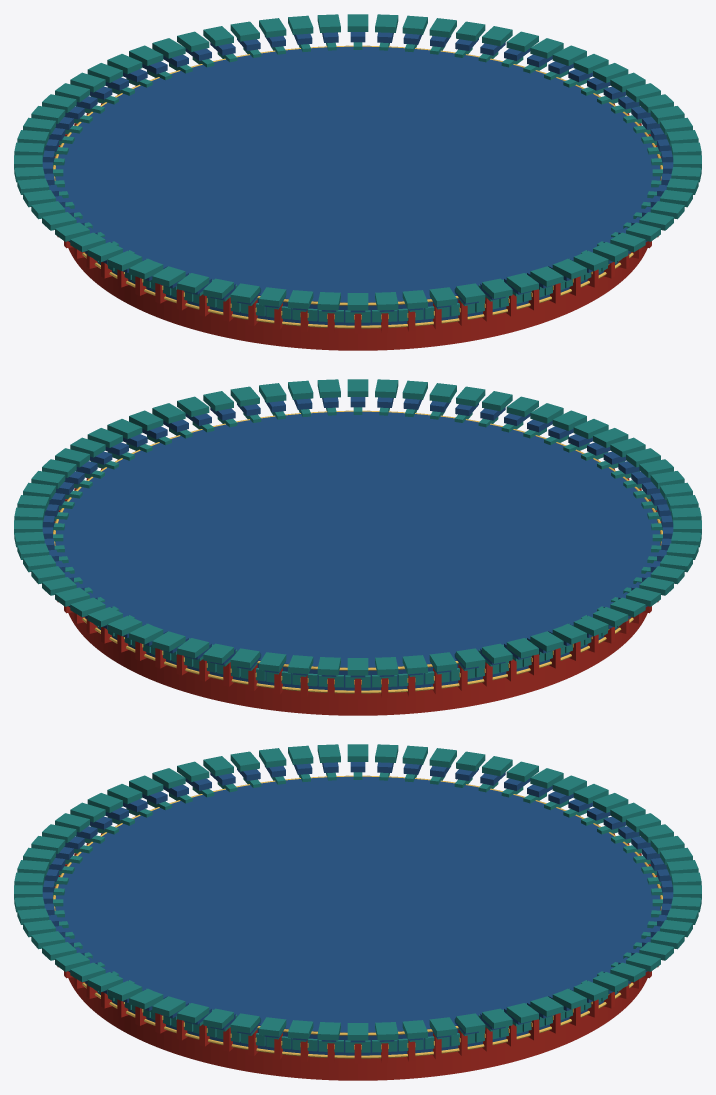
The model's file is SM_05_Bracket_3.fbx.
3 views of the same model, one above another, from view 1: azimuth 30°, elevation 25°; view 2: azimuth 150°, elevation 25°; view 3: azimuth 270°, elevation 25° (orthographic).
Visible parts, largest first — view 1: Bracket_3; view 2: Bracket_3; view 3: Bracket_3.
Part boxes in pixels (x1=…): Bracket_3: x1=14, y1=14, x2=701, y2=350; Bracket_3: x1=14, y1=379, x2=701, y2=715; Bracket_3: x1=14, y1=744, x2=701, y2=1080.
Size of the model in its own units: 1922 by 1922 by 206.
